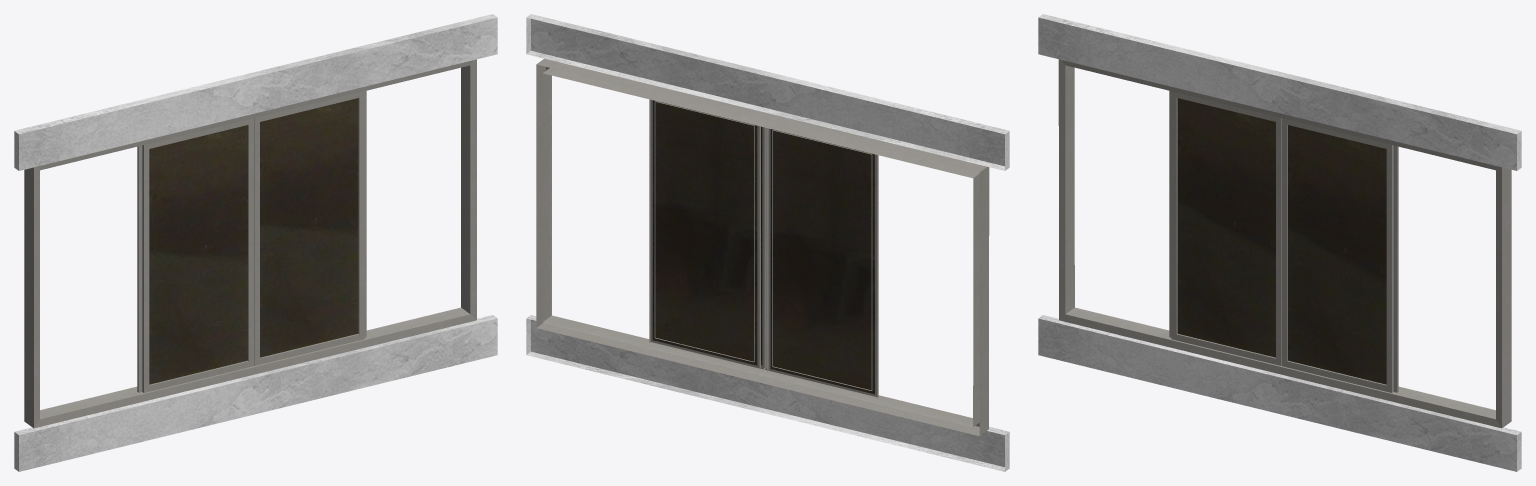
The model's file is Window_1m_009.fbx.
3 views of the same model, side by side, from view 1: azimuth 30°, elevation 25°; view 2: azimuth 150°, elevation 25°; view 3: azimuth 330°, elevation 25° (orthographic).
Visible parts, largest first — view 1: Window_1m_009; view 2: Window_1m_009; view 3: Window_1m_009.
Boxes of the visible parts, box(x1,y1,x2,y2) form: Window_1m_009: box(14, 14, 497, 471); Window_1m_009: box(526, 14, 1009, 471); Window_1m_009: box(1038, 14, 1521, 471).
Size of the model in its own units: 148 by 100 by 6.75.
1 material, 1 textured.
